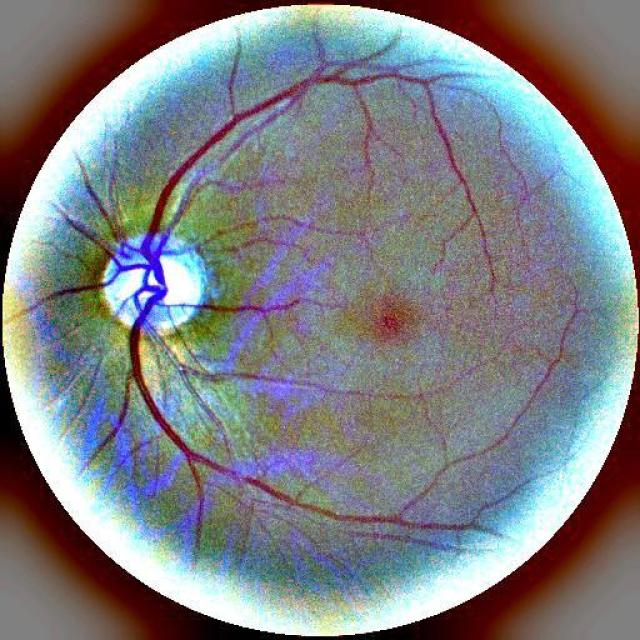Macula: (360, 294, 418, 347)
Nerves: (45, 89, 291, 496)
Optic Disk: (101, 234, 208, 329)
